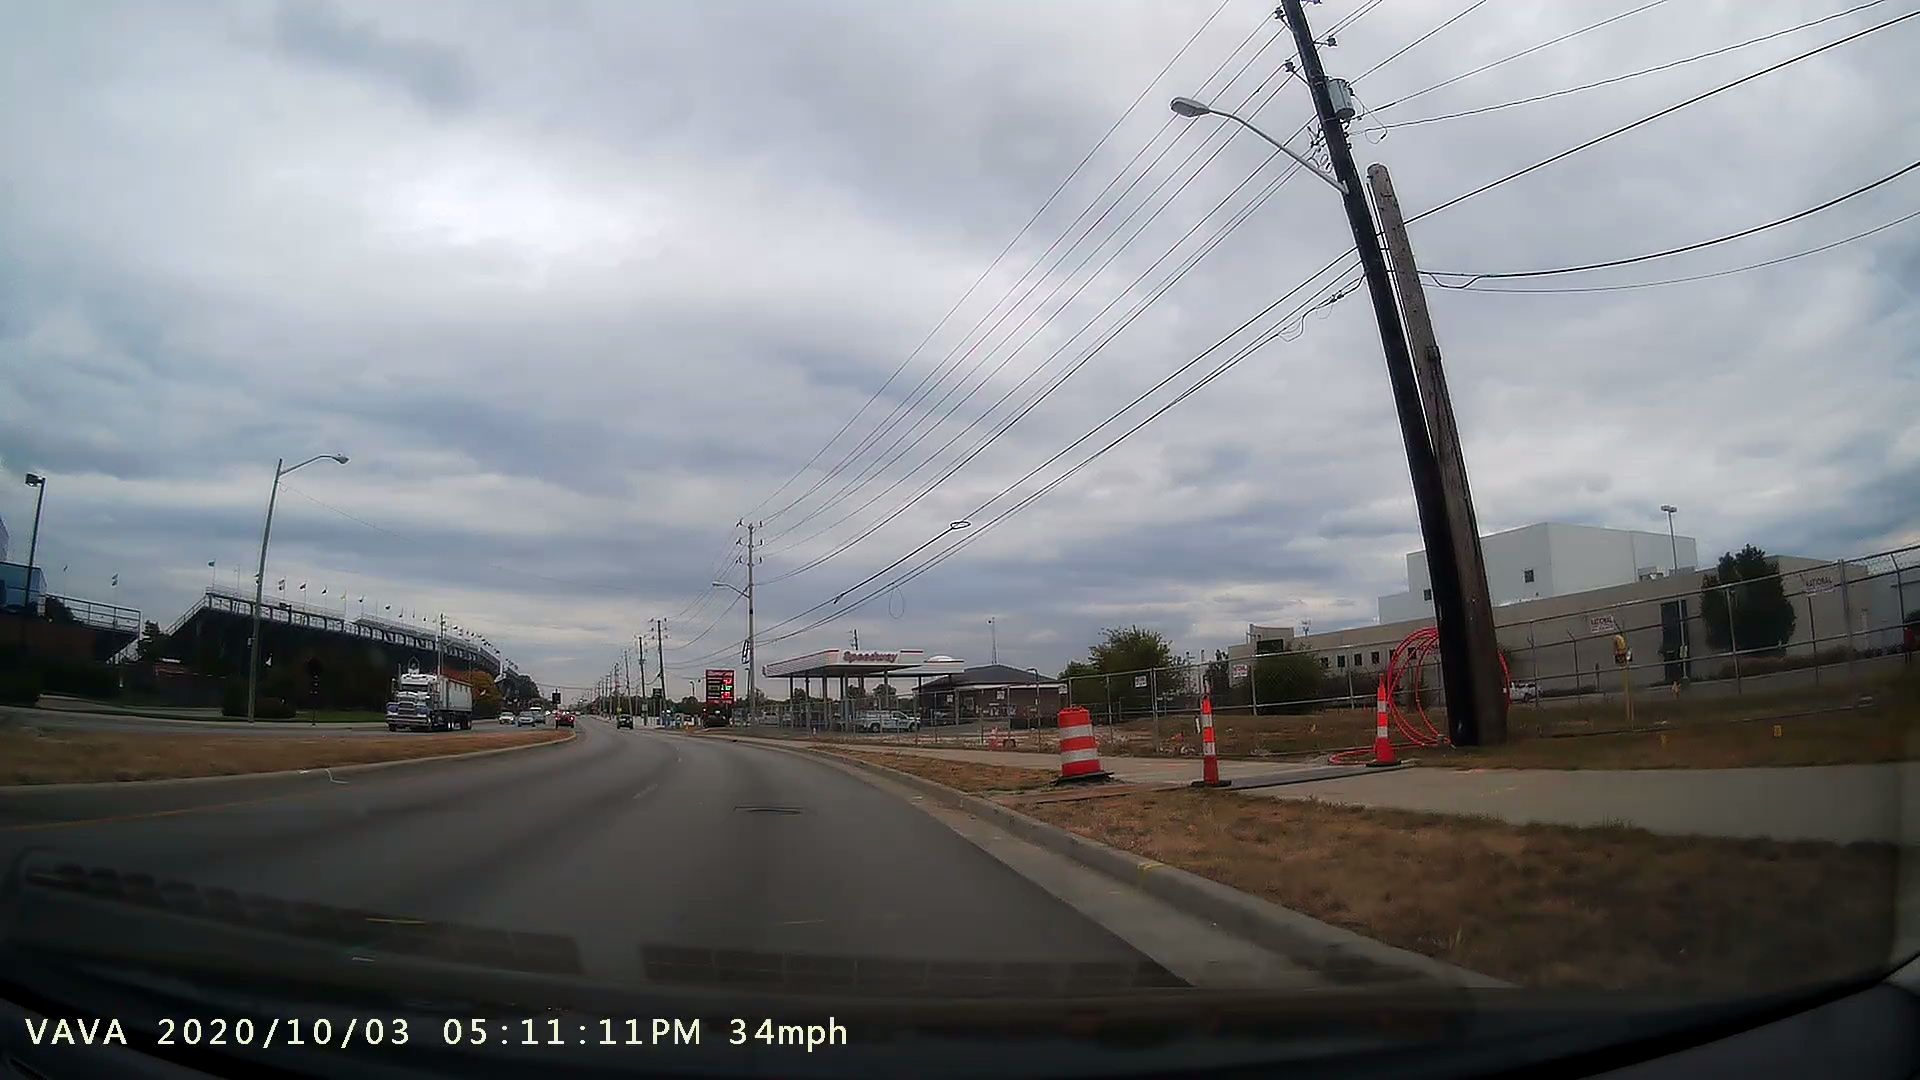const_barrel: (1017, 683, 1120, 796)
const_looper_cone: (1178, 682, 1247, 796), (1354, 665, 1418, 781)
